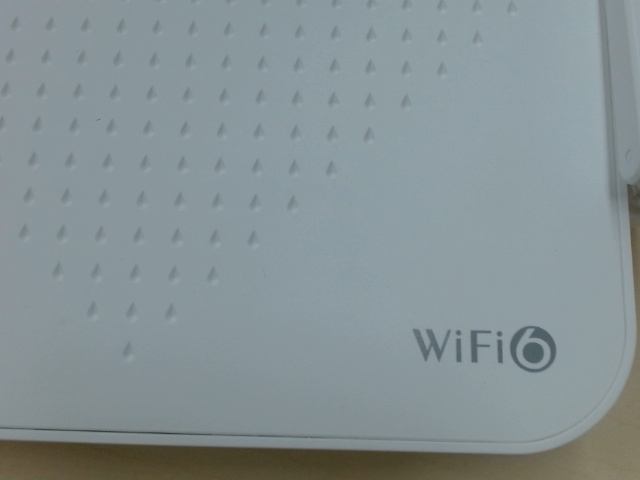AK_ZTEWIFI6: (403, 314, 564, 376)
